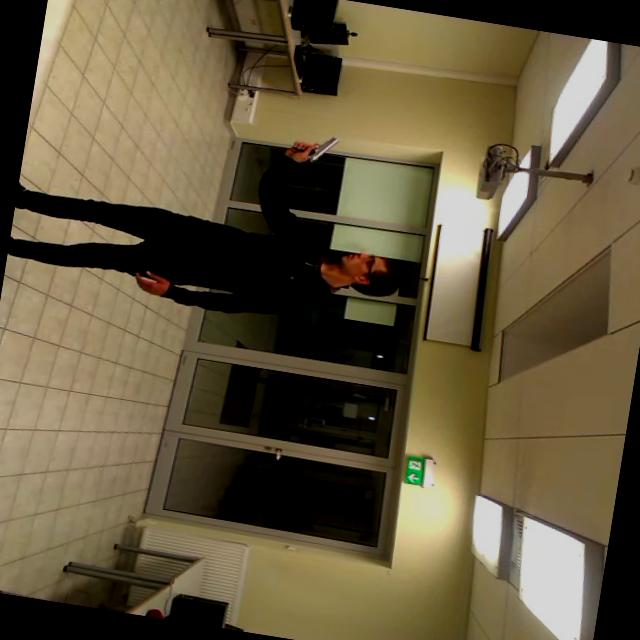handgun: (272, 118, 352, 172)
